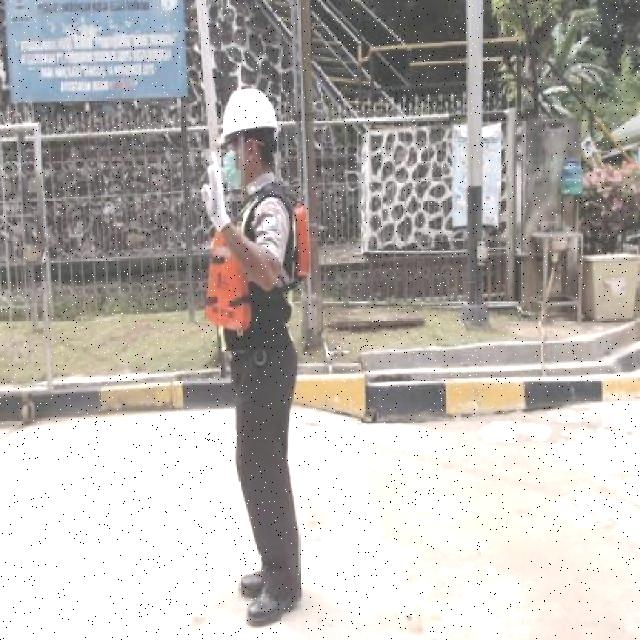Boots: (247, 579, 304, 630), (238, 566, 272, 599)
Gloves: (198, 153, 233, 230)
Helmet: (214, 88, 282, 146)
Mask: (205, 201, 312, 334)
